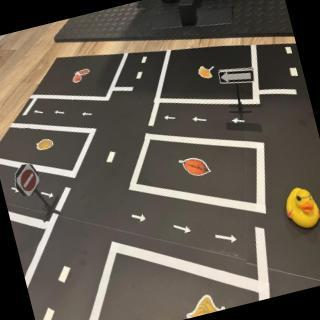duck_specialty: (280, 182, 320, 237)
road_oneway: (214, 227, 240, 250), (172, 219, 195, 239), (130, 210, 148, 226), (191, 113, 209, 126), (41, 189, 56, 203), (231, 114, 247, 127), (164, 113, 178, 125), (10, 184, 22, 196), (55, 108, 67, 119), (81, 110, 94, 120), (34, 108, 45, 117)
sign_noentry: (14, 162, 46, 201)
sign_oneway_left: (218, 64, 258, 91)
